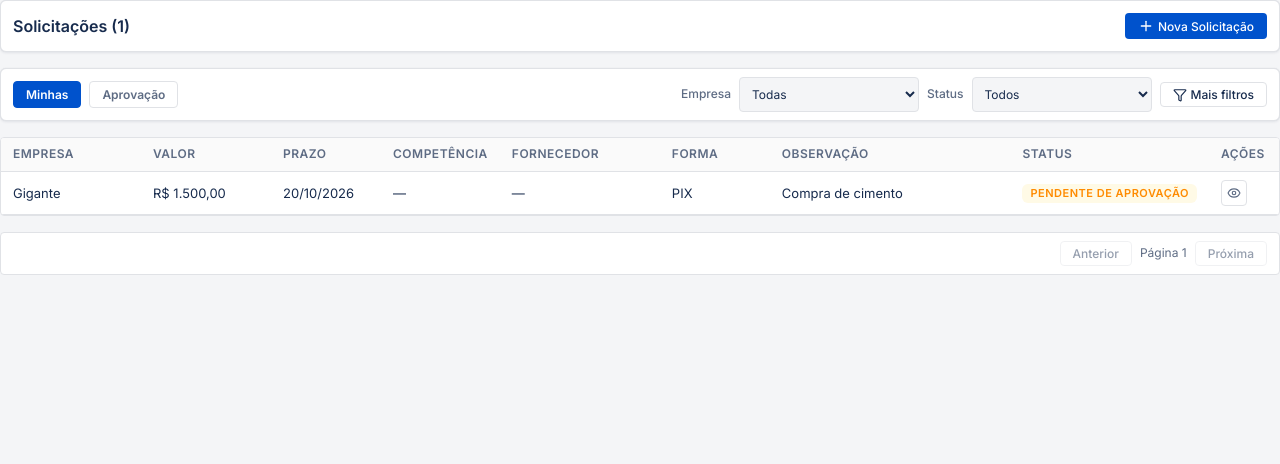
Test: Solicitacoes › recusa o vencimento final antes do inicial sem buscar
Expected: the text "Compra de cimento" is shown, [770,171,1010,214]
Click the button "Mais filtros".
click(1213, 94)  # box [1160,82,1267,107]
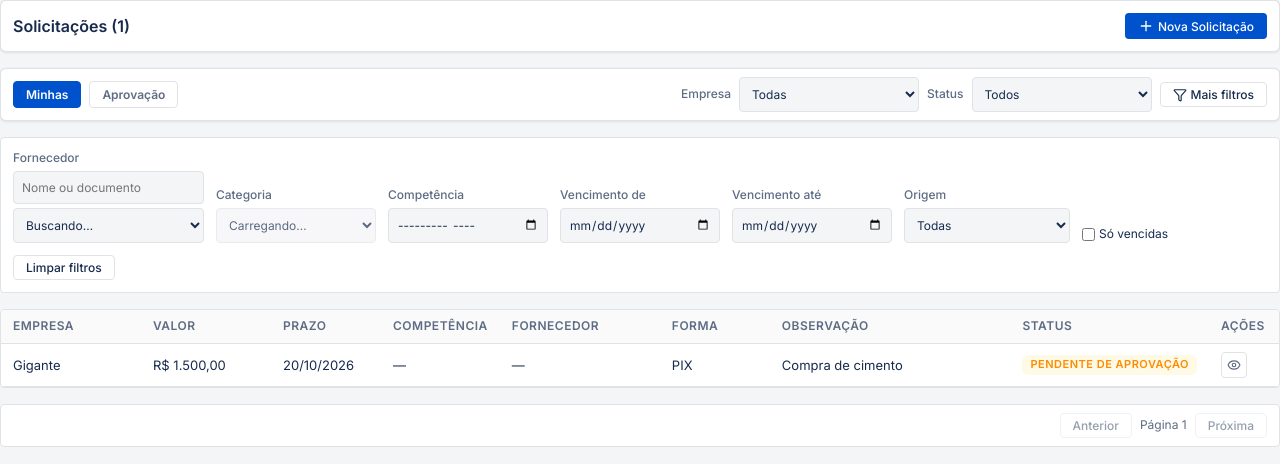
Type "2026-10-31" into the date field labelled "Vencimento de".
click(640, 225); type("2026-10-31")  # box [560,208,720,243]
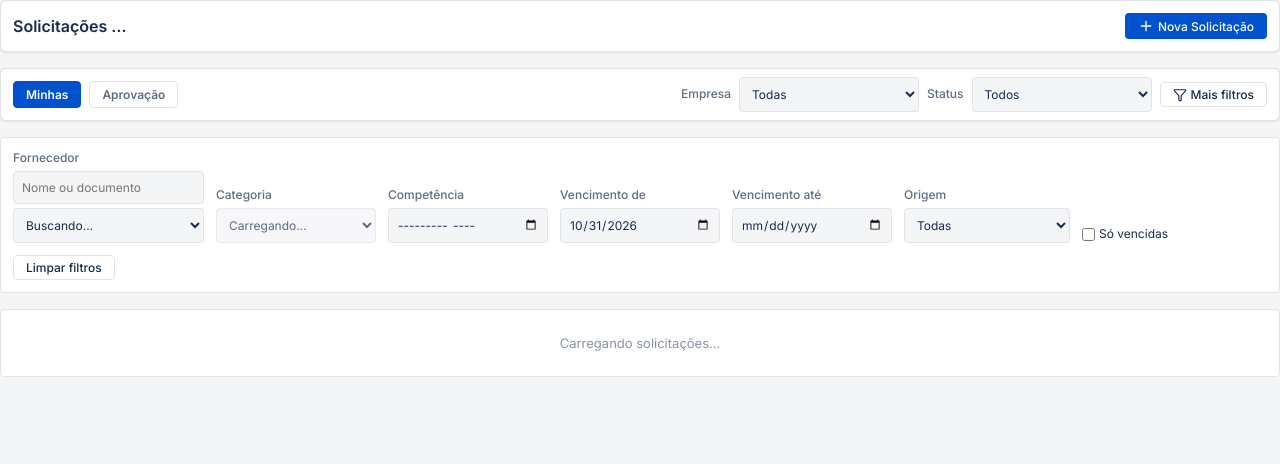
Type "2026-10-01" into the date field labelled "Vencimento até".
click(812, 225); type("2026-10-01")  # box [732,208,892,243]
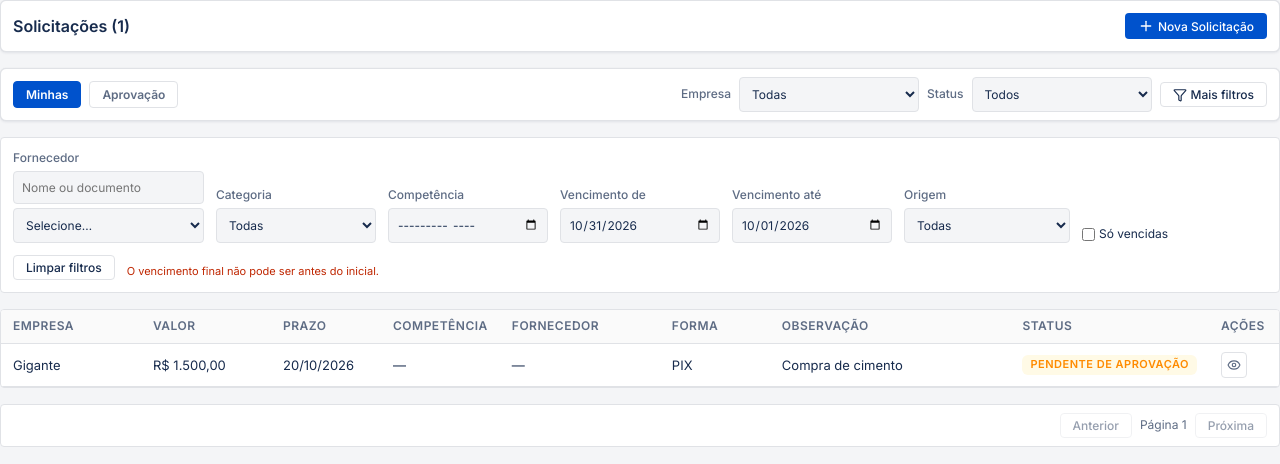
Expected: the text "O vencimento final não pode ser antes do inicial." is shown, [127,264,379,280]
